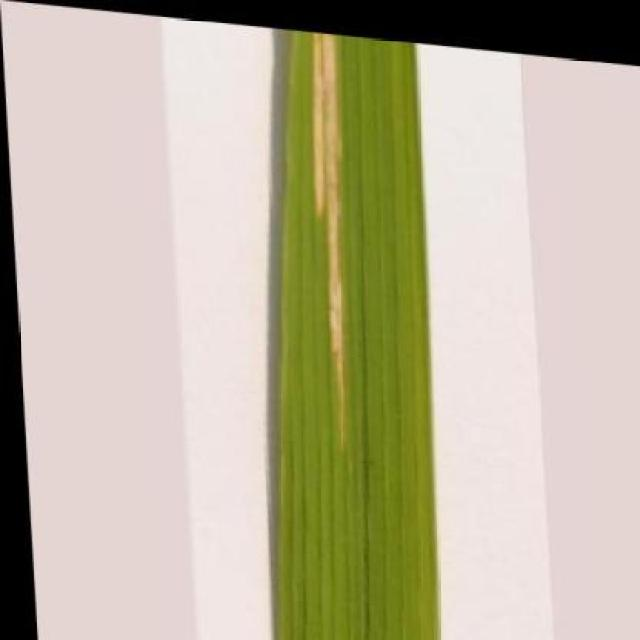Brown_Spot: (233, 18, 452, 640)
